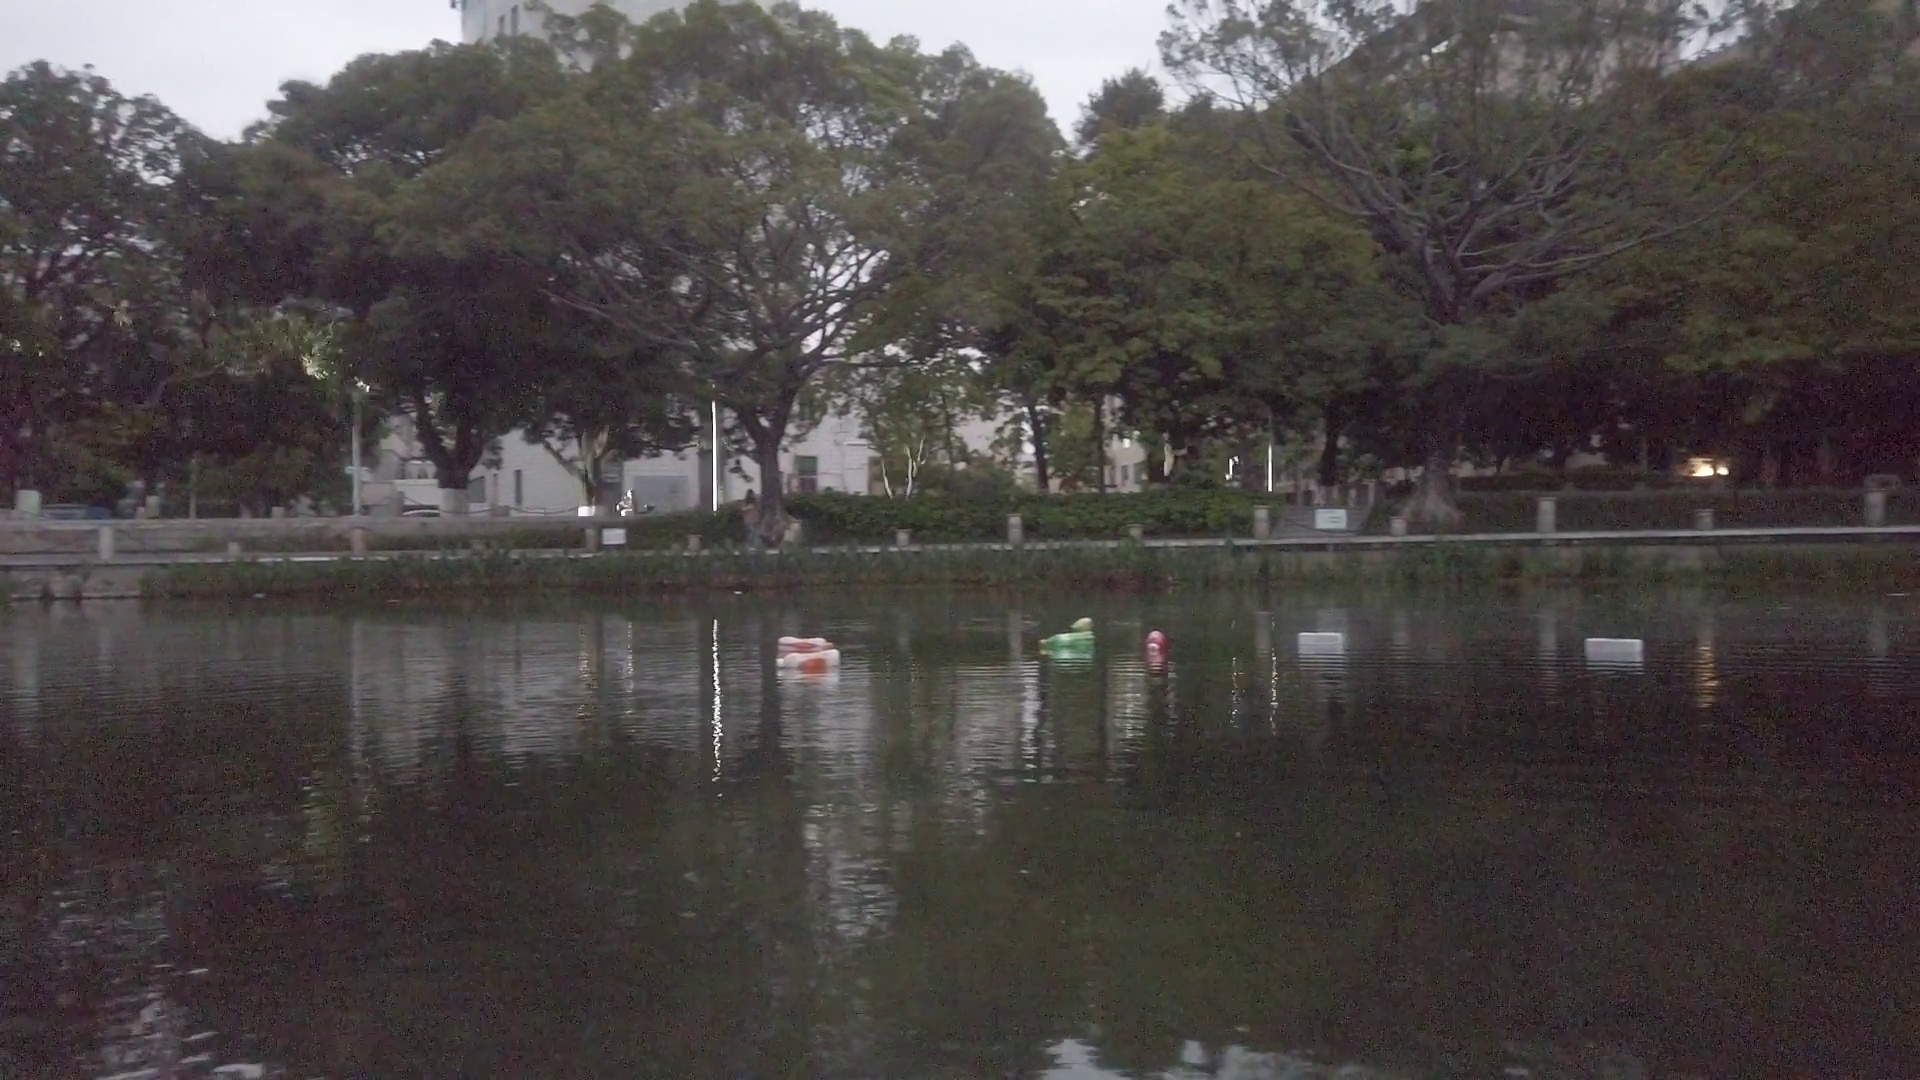carton: (774, 650, 843, 670), (775, 633, 833, 654), (1584, 637, 1643, 655), (1038, 633, 1096, 646), (1298, 632, 1346, 646), (1071, 615, 1093, 632), (1146, 630, 1163, 651)
